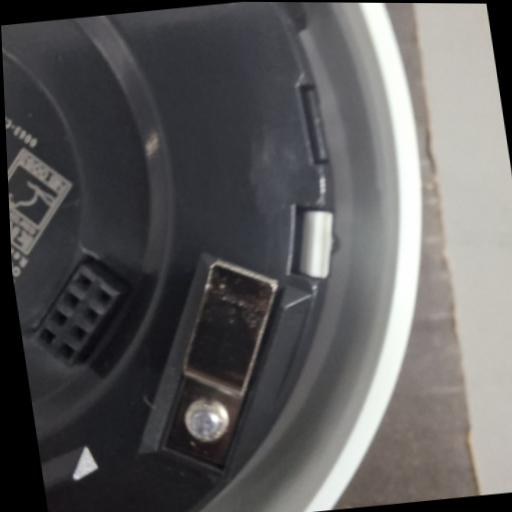yaysiz: (136, 244, 310, 474)
